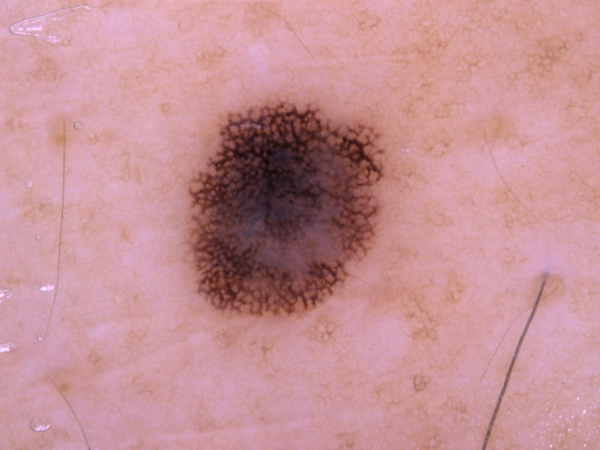Detected Lesion: (182, 94, 392, 325)
